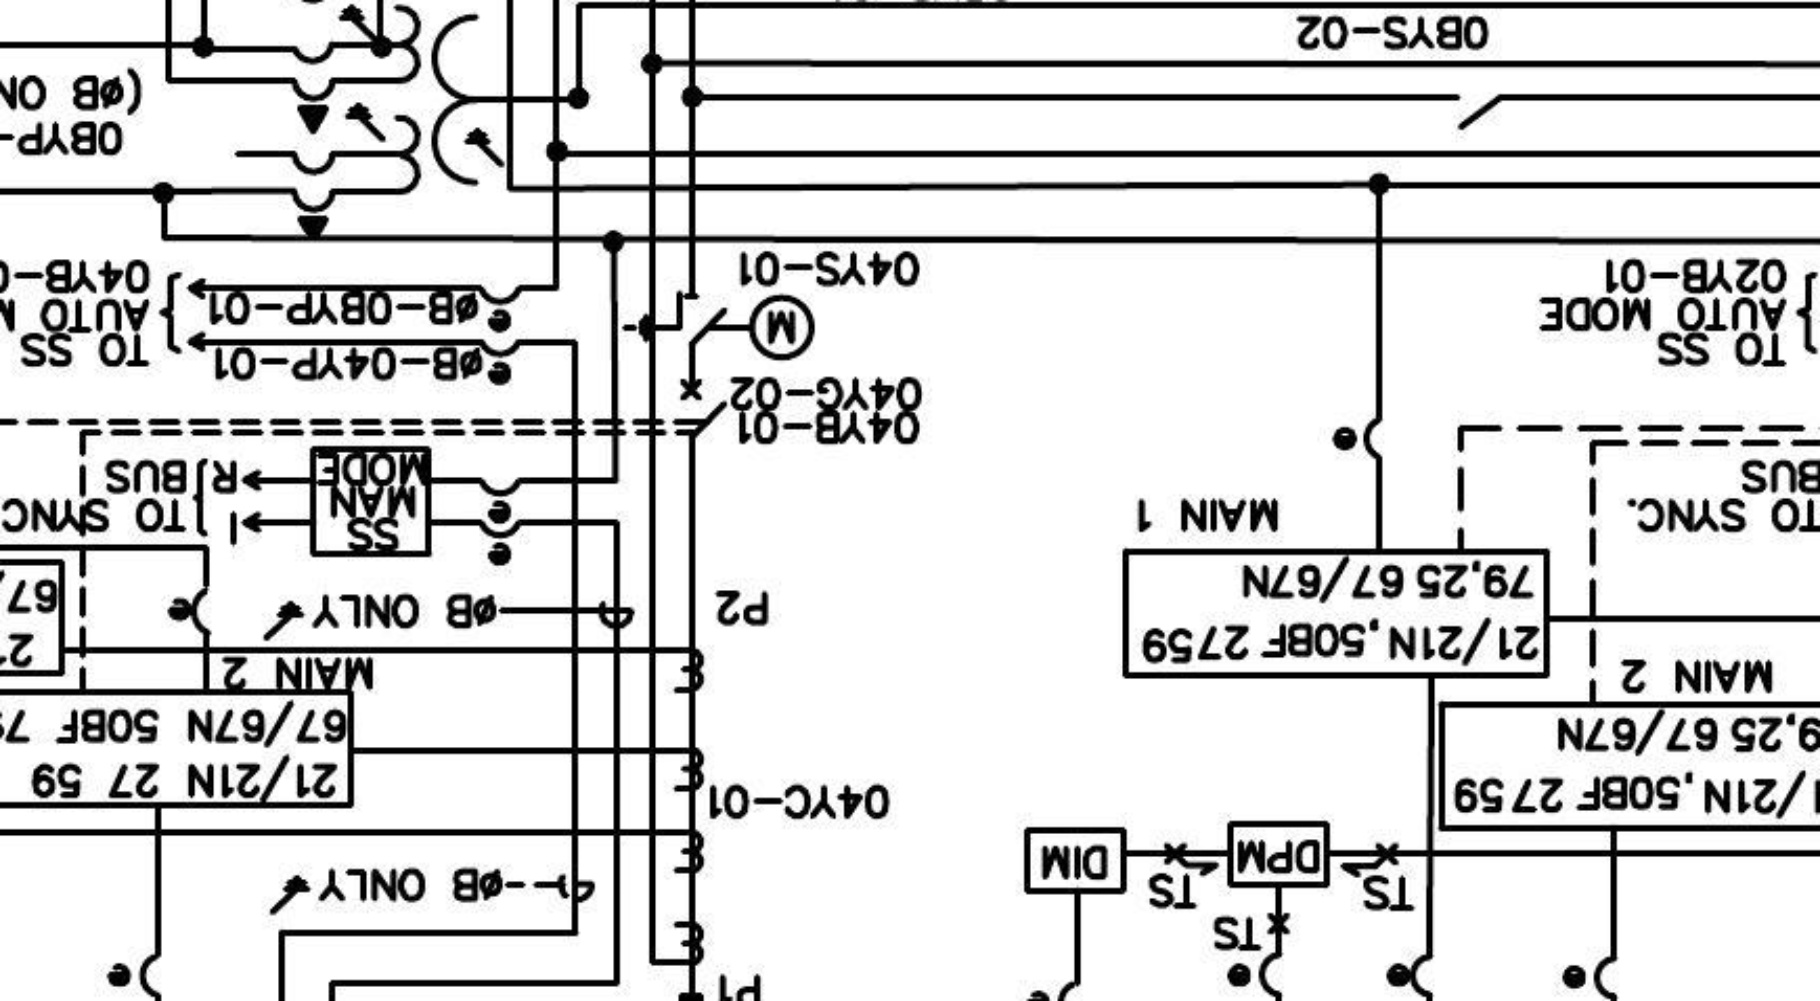115_3ways_ds_w_motor: (621, 289, 817, 362)
115_breaker: (678, 376, 729, 440)
115_ds: (1452, 92, 1505, 131)
115_vt_1p: (289, 2, 507, 241)
DIM: (1022, 825, 1130, 897)
DPM: (1225, 818, 1333, 891)
ss_man_mode: (308, 444, 434, 559)
